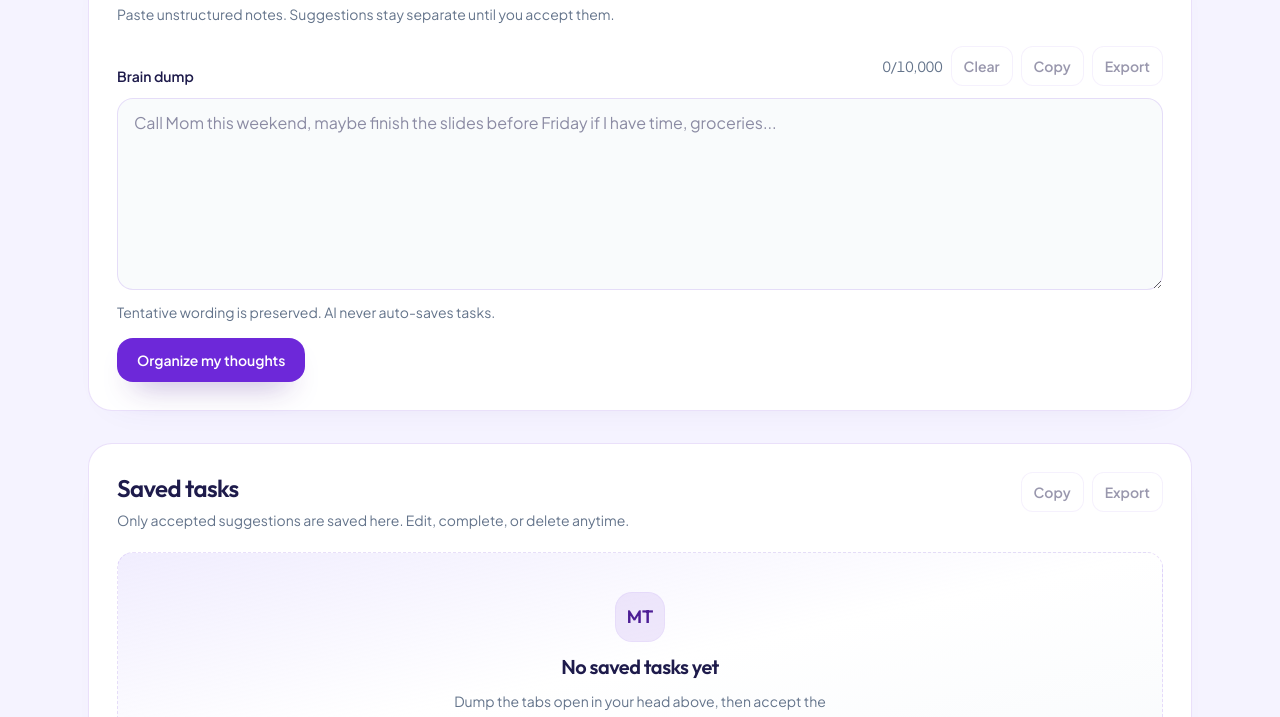
Test: BrainDumpWorkspace › shows a validation error when submitting empty input
(page scrolled)
Click the button "Organize my thoughts": (211, 360) [117,338,306,382]
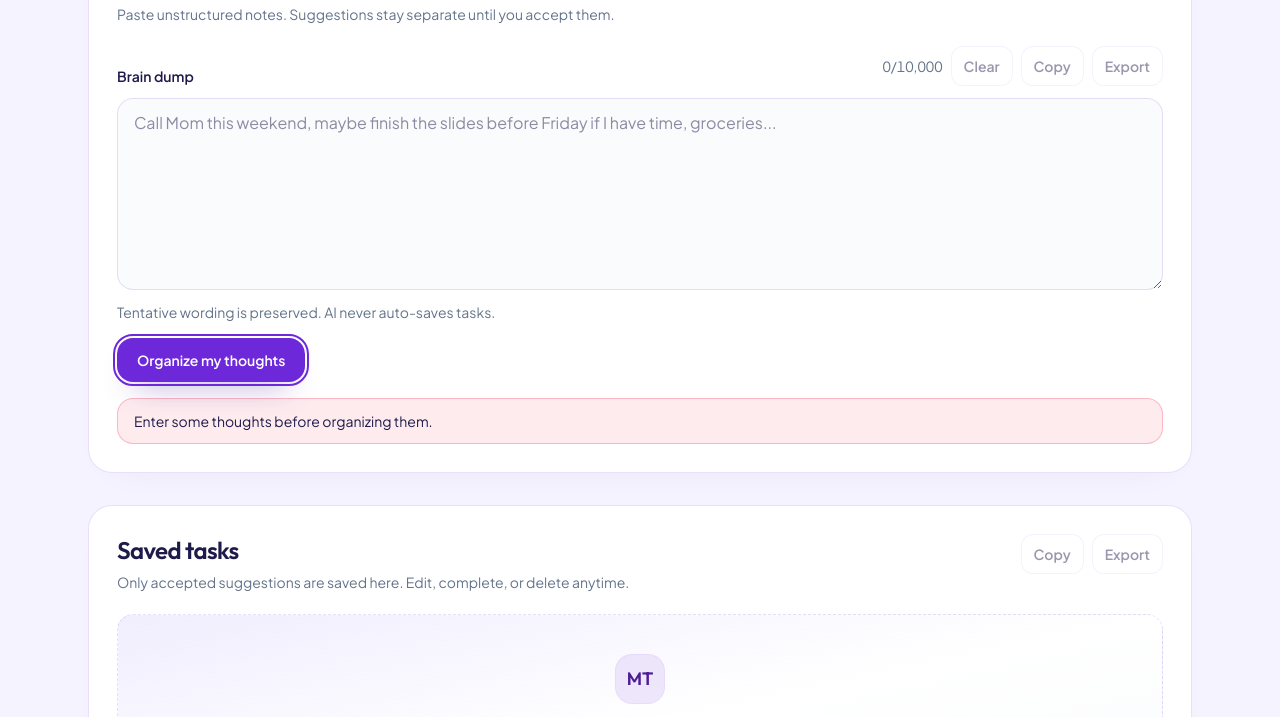
Result: the message "Enter some thoughts before organizing them." is shown at [117,398,1163,444]
